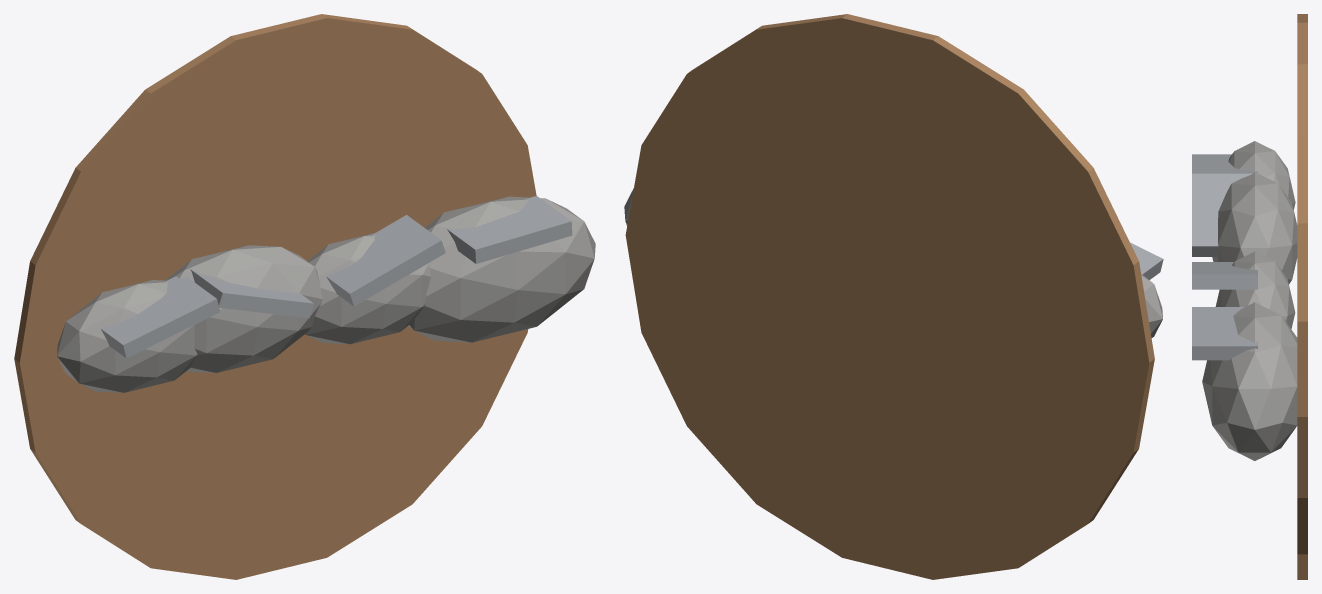
File: 02_display_prop_cluster.glb
3 renders of one model, left to right at view 1: azimuth 30°, elevation 25°; view 2: azimuth 150°, elevation 25°; view 3: azimuth 270°, elevation 25°, orthographic. The views are drawn at different scales.
Visible parts, largest first — view 1: scatter_base, scrap_rock_3, scrap_rock_1, scrap_rock_0, scrap_rock_2, scrap_plate_2, scrap_plate_0, scrap_plate_3, scrap_plate_1; view 2: scatter_base, scrap_rock_0; view 3: scrap_rock_3, scatter_base, scrap_rock_1, scrap_rock_2, scrap_plate_3, scrap_plate_1, scrap_rock_0, scrap_plate_2, scrap_plate_0.
Part boxes in pixels (x1,y1,x2,y2): scatter_base: (14, 14, 536, 579); scrap_rock_3: (408, 196, 595, 342); scrap_rock_1: (165, 245, 322, 372); scrap_rock_0: (57, 280, 197, 392); scrap_rock_2: (305, 233, 430, 344); scrap_plate_2: (326, 215, 445, 306); scrap_plate_0: (101, 276, 219, 358); scrap_plate_3: (447, 195, 572, 263); scrap_plate_1: (187, 267, 313, 318); scatter_base: (625, 14, 1154, 579); scrap_rock_0: (1141, 274, 1162, 337); scrap_rock_3: (1202, 302, 1297, 460); scatter_base: (1297, 14, 1307, 579); scrap_rock_1: (1212, 172, 1297, 283); scrap_rock_2: (1215, 251, 1295, 329); scrap_plate_3: (1192, 307, 1257, 360); scrap_plate_1: (1192, 173, 1257, 256); scrap_rock_0: (1228, 141, 1295, 209); scrap_plate_2: (1192, 262, 1257, 289); scrap_plate_0: (1192, 154, 1257, 173).
Bounding box in the file's own units: 2.01 × 1.87 × 0.3875.
